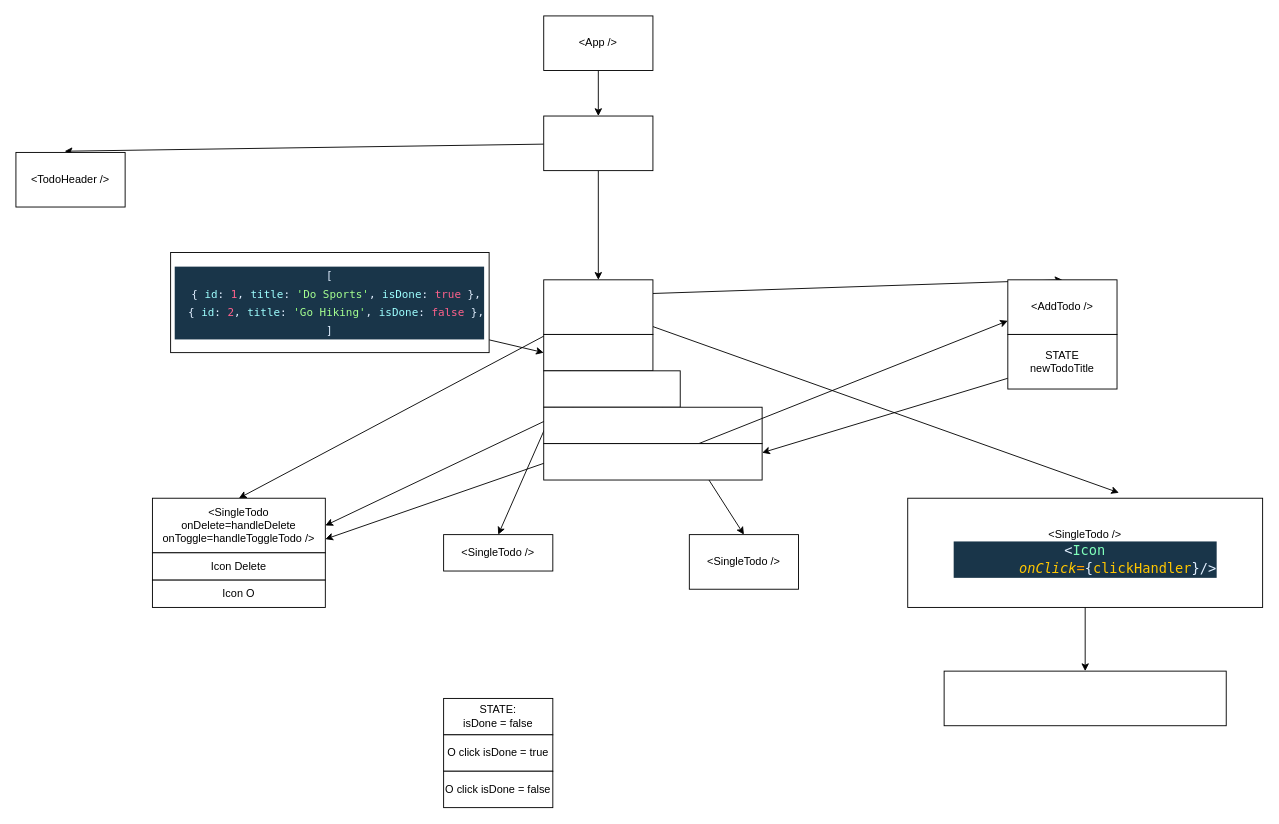
Image size: 1279x824. Some labels were removed from this diagram. Here are the shapes that lost their labels. From the top down, the centre of each, then its label:
(598,143): <TodoApp />
(598,306): <TodoList />
(598,352): STATE: mainTodoArr = []
(611,388): handleDelete(deleteId)
(652,425): handleToggleTodo (toggleId)
(652,461): handleAddTodo
(1084,698): <Icon props.onClick /> < i onClick = { onClick } ></ i >
